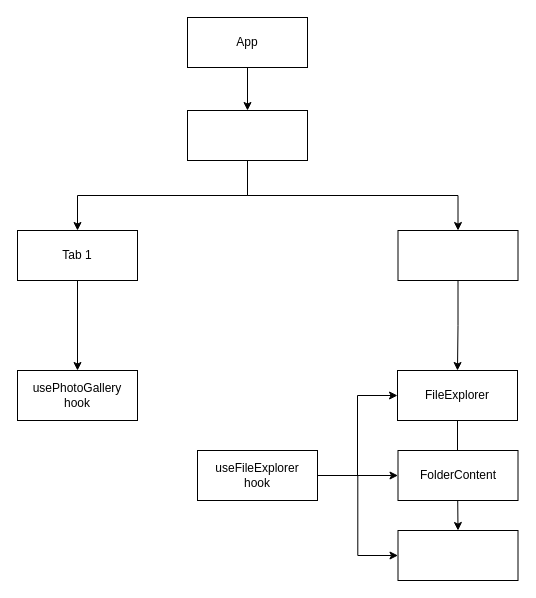
This 536x598 diagram has some shape labels left out. Each missing label, with the centre of its shape:
"FolderItem" goes at [457,555].
"Tab 2" goes at [457,255].
"Tabs" goes at [247,135].
